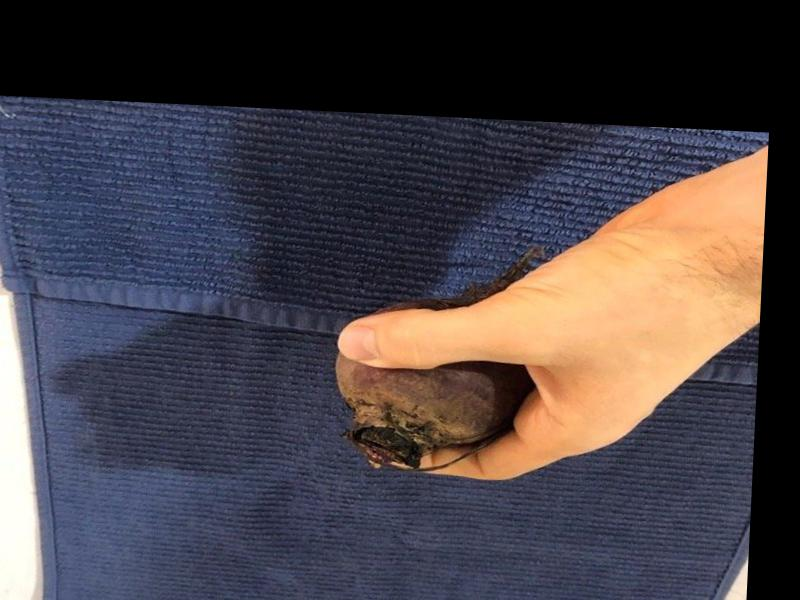Beet: (329, 234, 535, 475)
